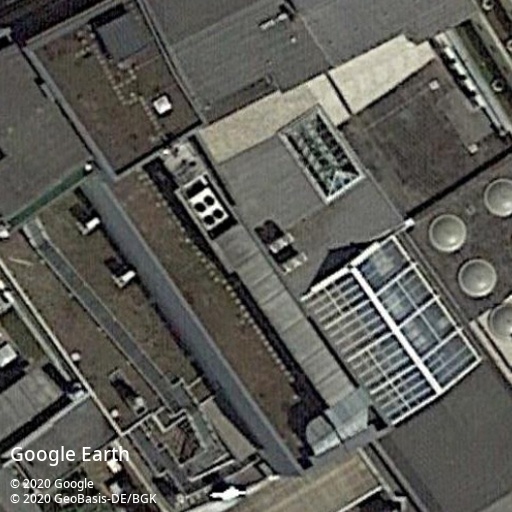Chiller: (187, 187, 229, 230)
